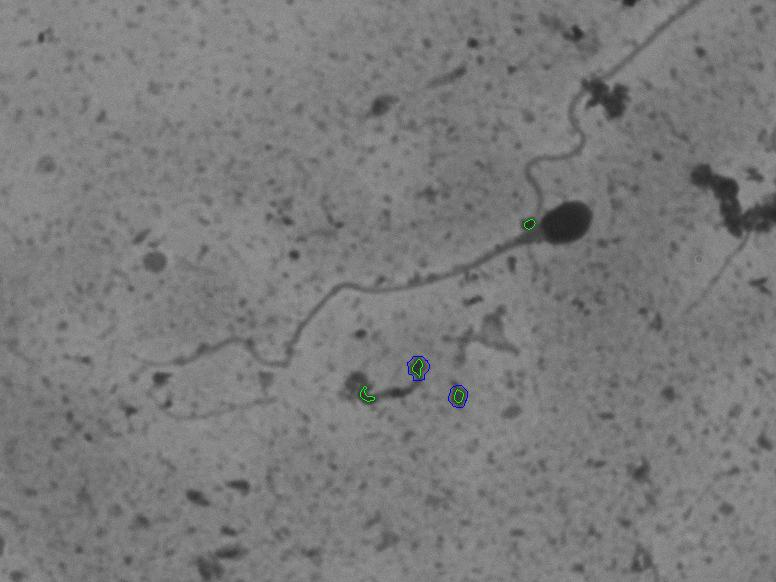Normal: (171, 185, 615, 375)
